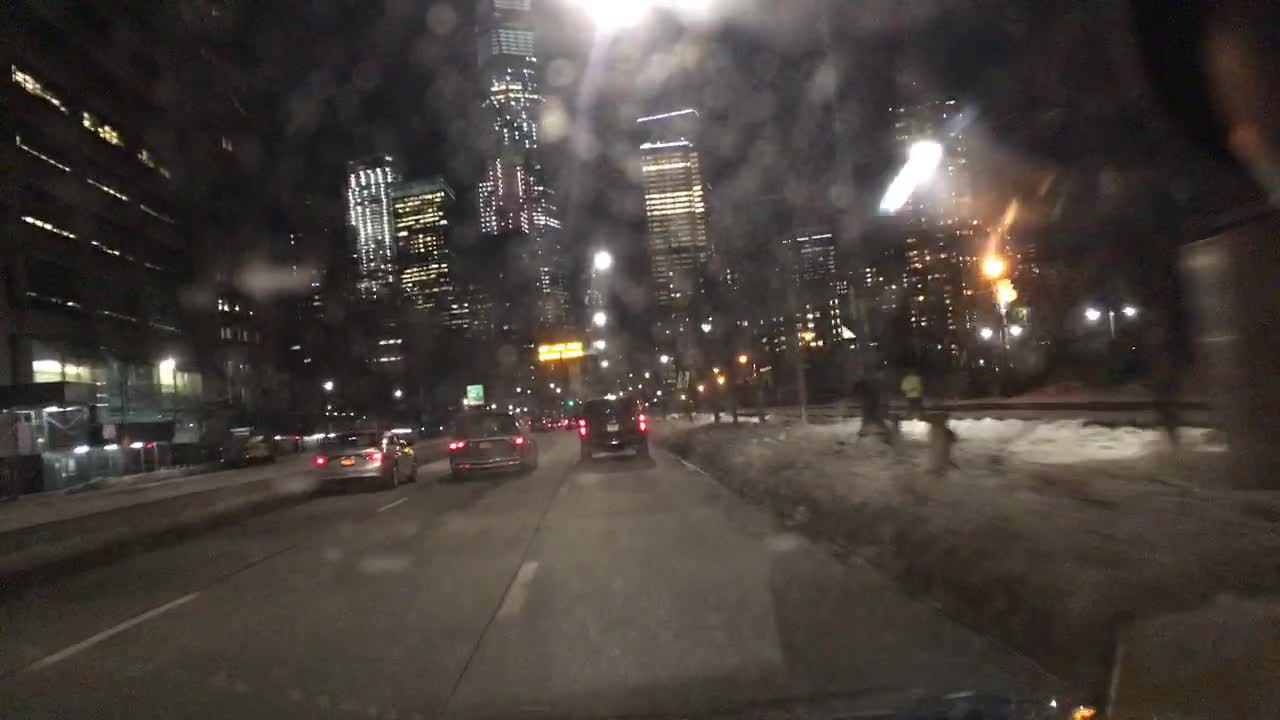car: (312, 428, 419, 491), (444, 405, 528, 476), (576, 393, 651, 460), (237, 438, 281, 465), (414, 420, 445, 437), (558, 413, 577, 430), (526, 416, 550, 429)
person: (852, 366, 891, 447), (896, 360, 929, 427)
traffic sign: (462, 381, 486, 407), (675, 366, 690, 389)
